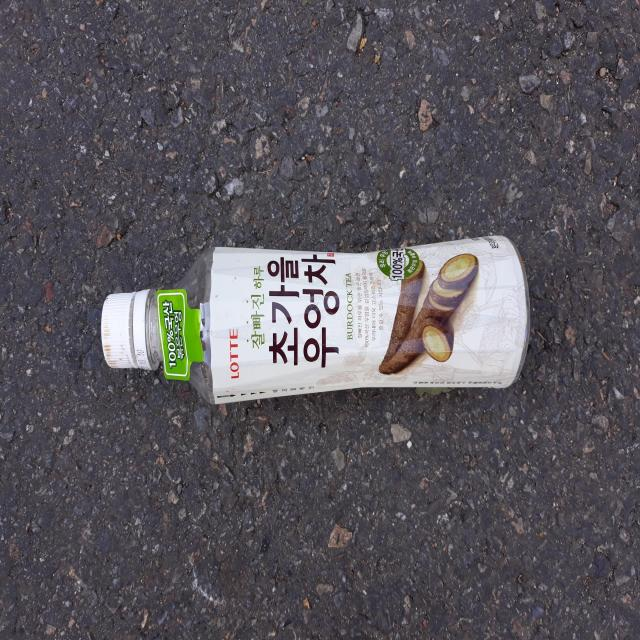plastic: (101, 236, 530, 404)
